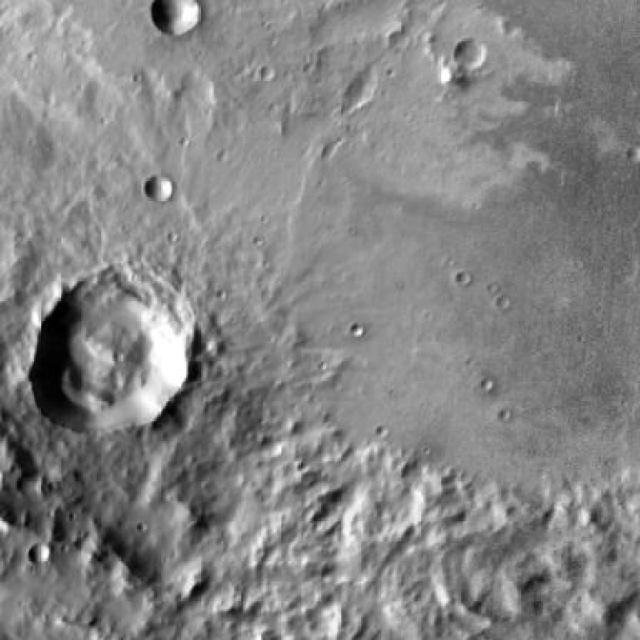crater: (34, 280, 198, 435), (147, 0, 198, 38), (456, 39, 484, 67), (144, 176, 170, 201), (32, 546, 48, 562)
